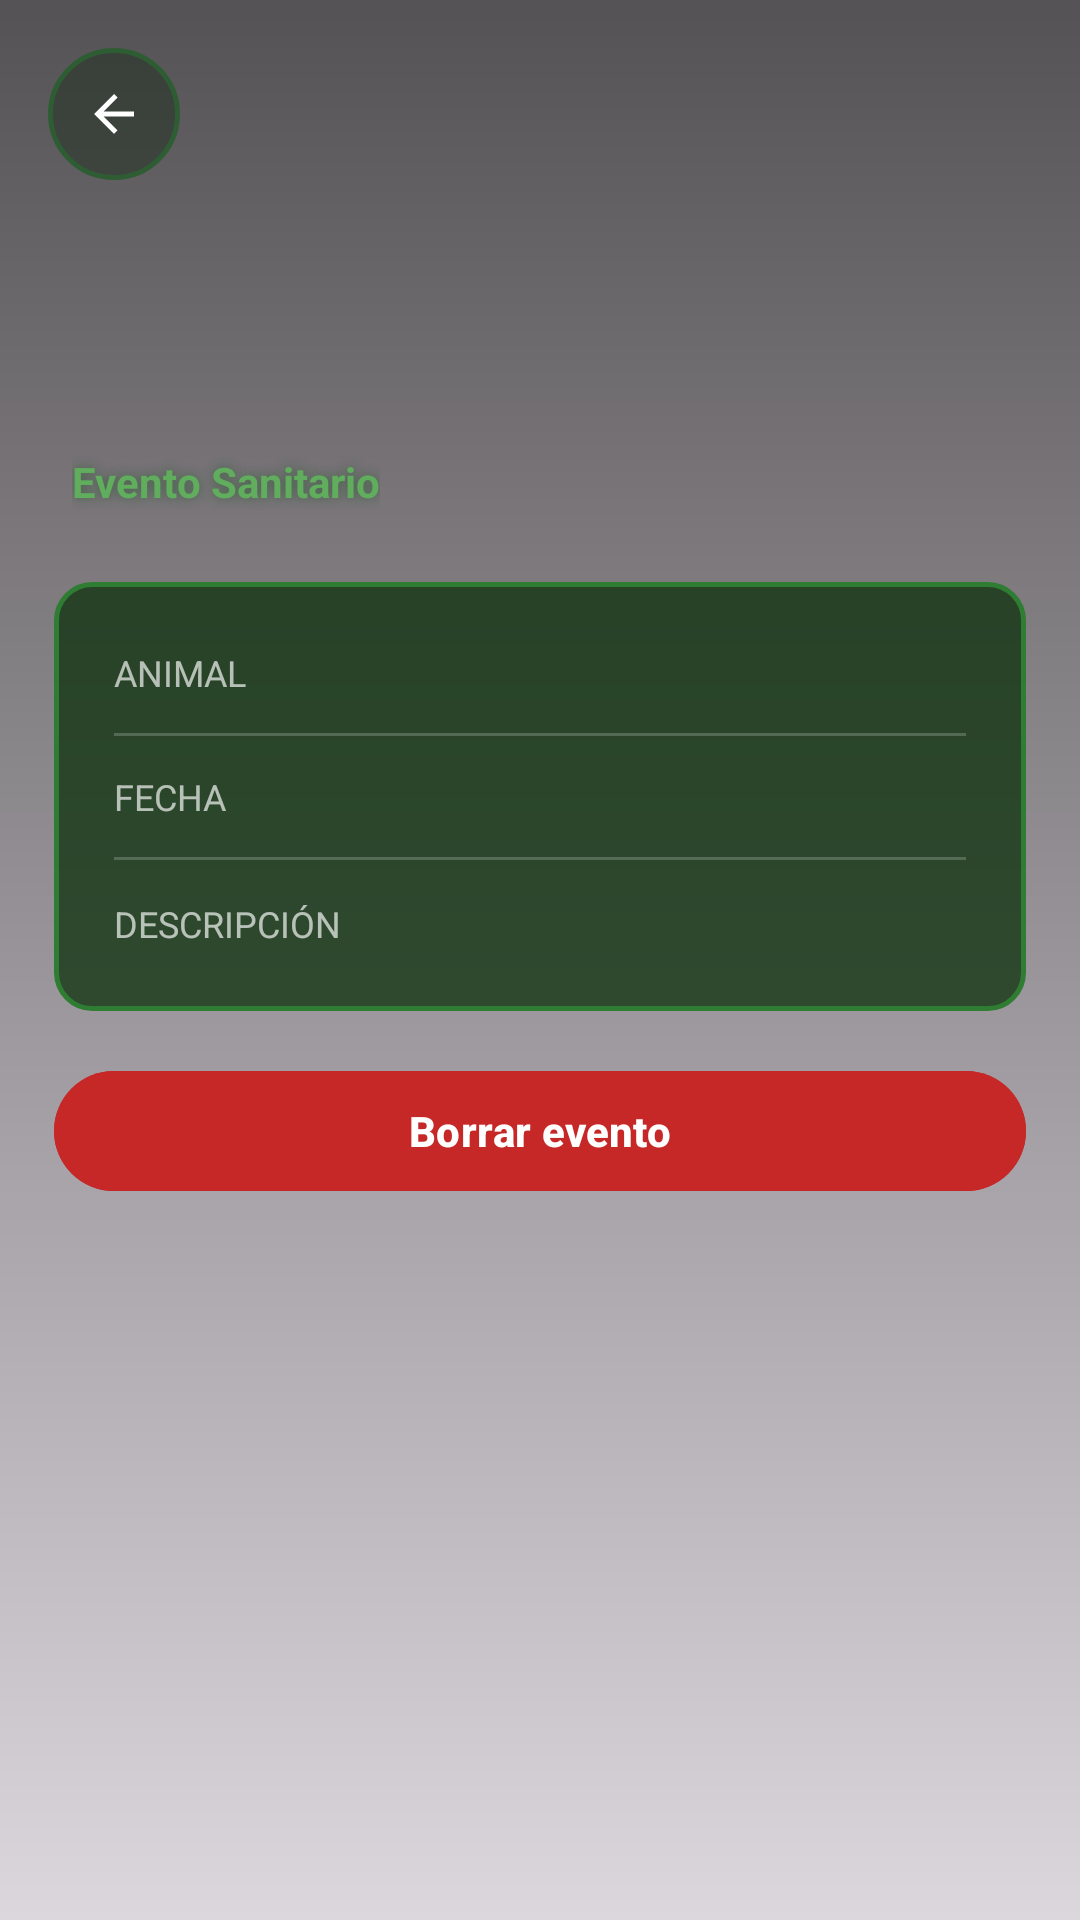

Where to tap for icons on this 1080w x 1920h app screen, as (x,y):
arrow back: (114,114)
